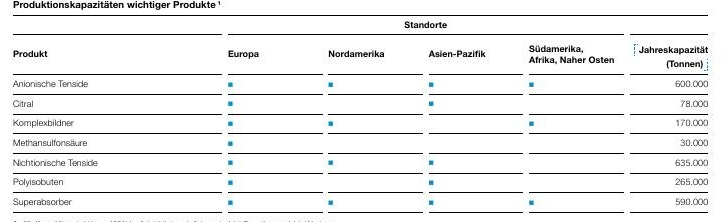table: (0, 0, 726, 222)
